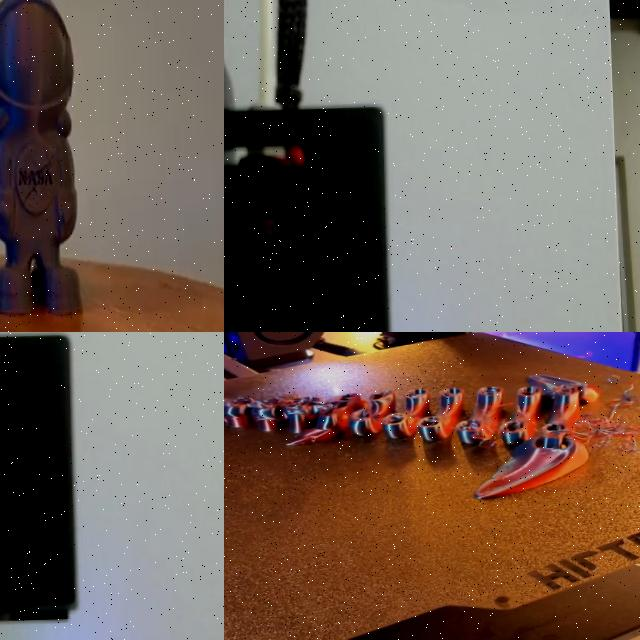spaghetti: (580, 377, 640, 487)
